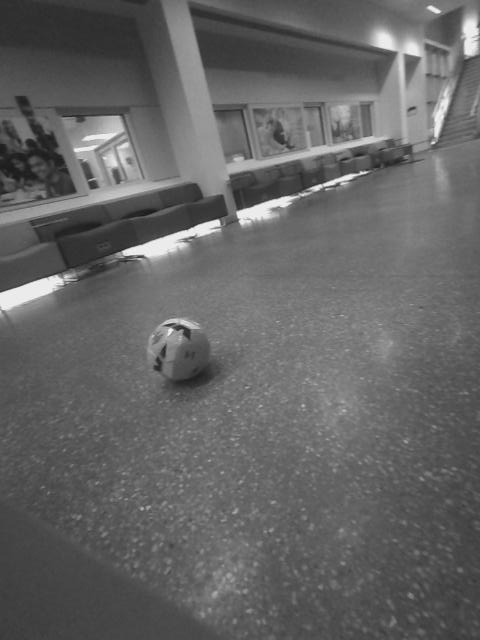ball: (140, 312, 220, 387)
